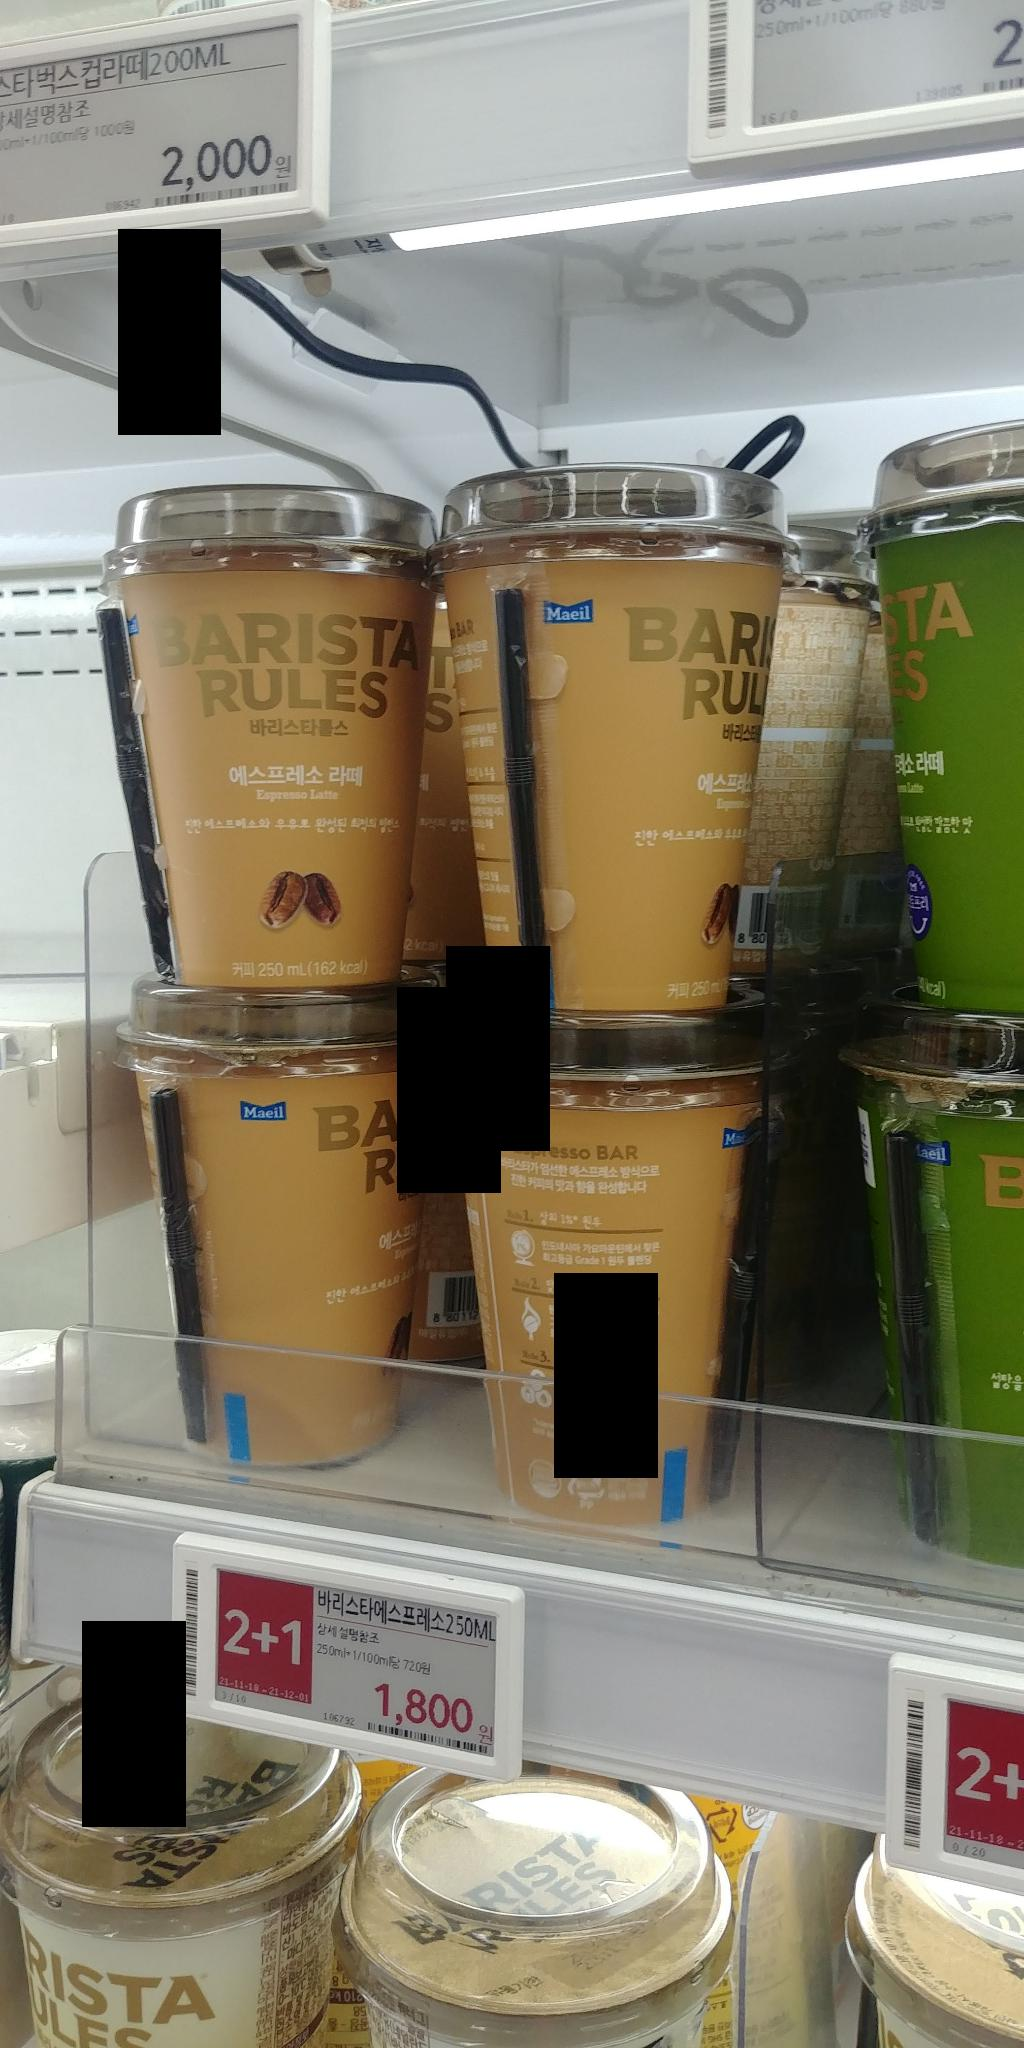baristarules_espressolatte: (432, 458, 771, 1014), (447, 987, 777, 1531), (94, 482, 435, 991), (124, 973, 422, 1472)
